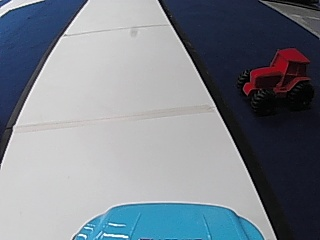tractor: (234, 46, 316, 116)
